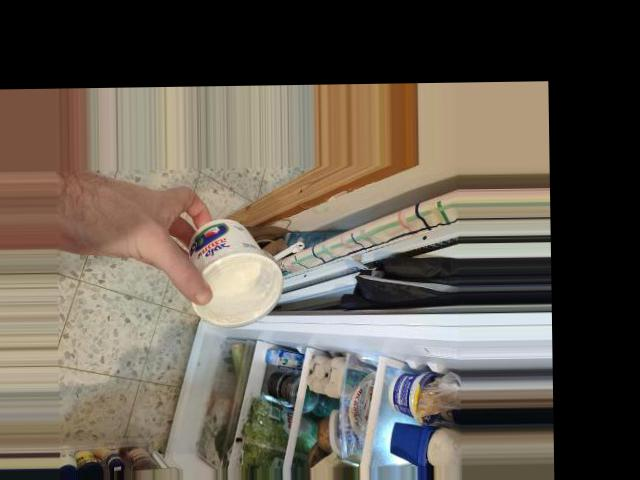cotage: (173, 207, 286, 326)
